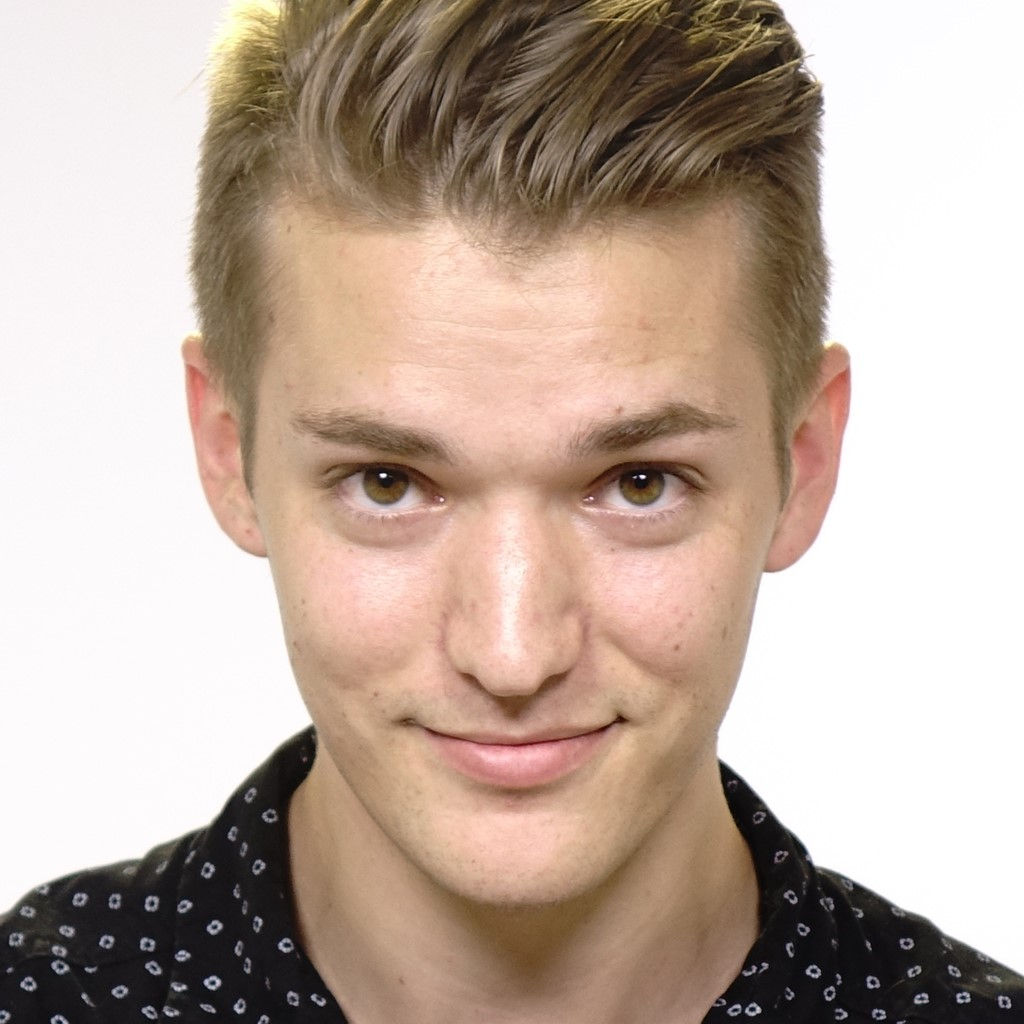sin_mascara: (219, 142, 798, 894)
